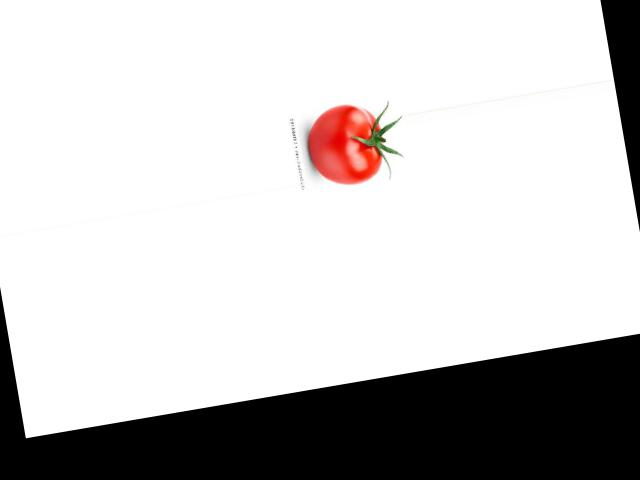tomato: (303, 99, 388, 190)
